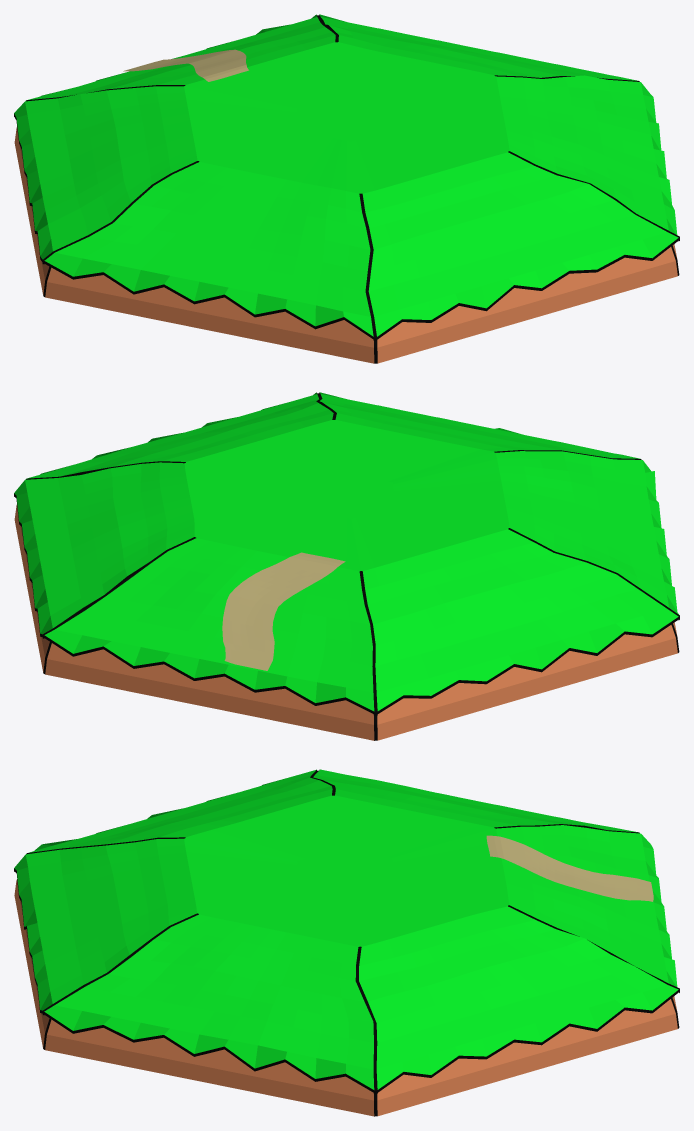
Rendered from Platform.fbx.
The picture shows the model from 3 angles, top to bottom: view 1: azimuth 30°, elevation 25°; view 2: azimuth 150°, elevation 25°; view 3: azimuth 270°, elevation 25°; orthographic projection.
Visible parts, largest first — view 1: Plane.011; view 2: Plane.011; view 3: Plane.011.
Part boxes in pixels (left/top/right/bottom): Plane.011: left=14, top=14, right=679, bottom=363; Plane.011: left=14, top=392, right=679, bottom=740; Plane.011: left=14, top=769, right=679, bottom=1116.
Bounding box in the file's own units: 2416 × 335 × 2191.
